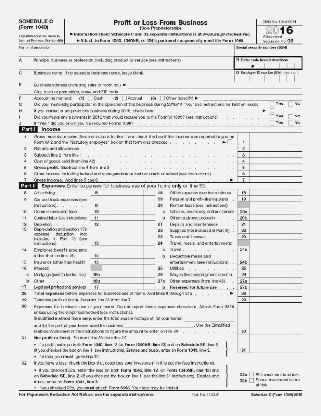checkbox: (159, 94, 166, 101), (269, 100, 276, 107), (287, 100, 294, 107), (287, 119, 294, 126), (269, 119, 276, 126), (248, 370, 255, 377), (248, 376, 255, 383), (87, 95, 94, 101), (121, 95, 128, 101), (269, 113, 275, 120), (287, 113, 294, 119), (227, 138, 233, 145), (269, 107, 275, 113)
textbox: (15, 42, 236, 58), (16, 67, 237, 83), (14, 55, 235, 70), (247, 300, 294, 336), (232, 42, 304, 58), (232, 55, 304, 71), (233, 67, 304, 83), (100, 224, 145, 247), (248, 332, 293, 354), (100, 194, 145, 210), (248, 250, 293, 266), (100, 243, 145, 259), (248, 131, 292, 147), (248, 200, 292, 216), (101, 262, 145, 278), (248, 238, 292, 254), (289, 300, 306, 336), (99, 256, 146, 266), (100, 275, 145, 285), (248, 288, 293, 298), (248, 294, 293, 304), (248, 143, 292, 153), (248, 149, 292, 159), (249, 155, 293, 165), (248, 161, 292, 171), (248, 168, 292, 178), (248, 174, 292, 184), (248, 225, 292, 235), (101, 206, 145, 216), (100, 187, 145, 196), (100, 212, 145, 221), (100, 219, 145, 228), (100, 281, 145, 290), (248, 263, 293, 272), (248, 269, 293, 278), (248, 276, 293, 285), (248, 282, 293, 291), (249, 187, 293, 196), (249, 194, 293, 203), (248, 212, 292, 221), (248, 219, 292, 228), (249, 231, 293, 240), (288, 332, 305, 354), (141, 225, 157, 247), (289, 200, 307, 217), (289, 250, 307, 267), (140, 262, 158, 279), (289, 238, 306, 255), (142, 194, 159, 210), (142, 244, 157, 259), (290, 130, 304, 146), (289, 155, 305, 165), (290, 168, 306, 178), (290, 162, 306, 172), (290, 174, 306, 184), (289, 269, 305, 279), (289, 193, 304, 203), (290, 231, 305, 241), (142, 212, 157, 222), (290, 263, 305, 273), (289, 275, 304, 285), (289, 288, 304, 298), (290, 213, 306, 222), (289, 219, 305, 228), (289, 225, 305, 234), (288, 282, 304, 291), (288, 294, 304, 303), (289, 143, 304, 152), (289, 150, 304, 159), (290, 187, 305, 196), (142, 206, 157, 215), (142, 219, 157, 228), (142, 257, 156, 266), (142, 276, 156, 285), (143, 282, 157, 291)
textline: (126, 83, 305, 89), (125, 89, 304, 95), (124, 319, 194, 329), (201, 96, 304, 102), (183, 313, 234, 323)
